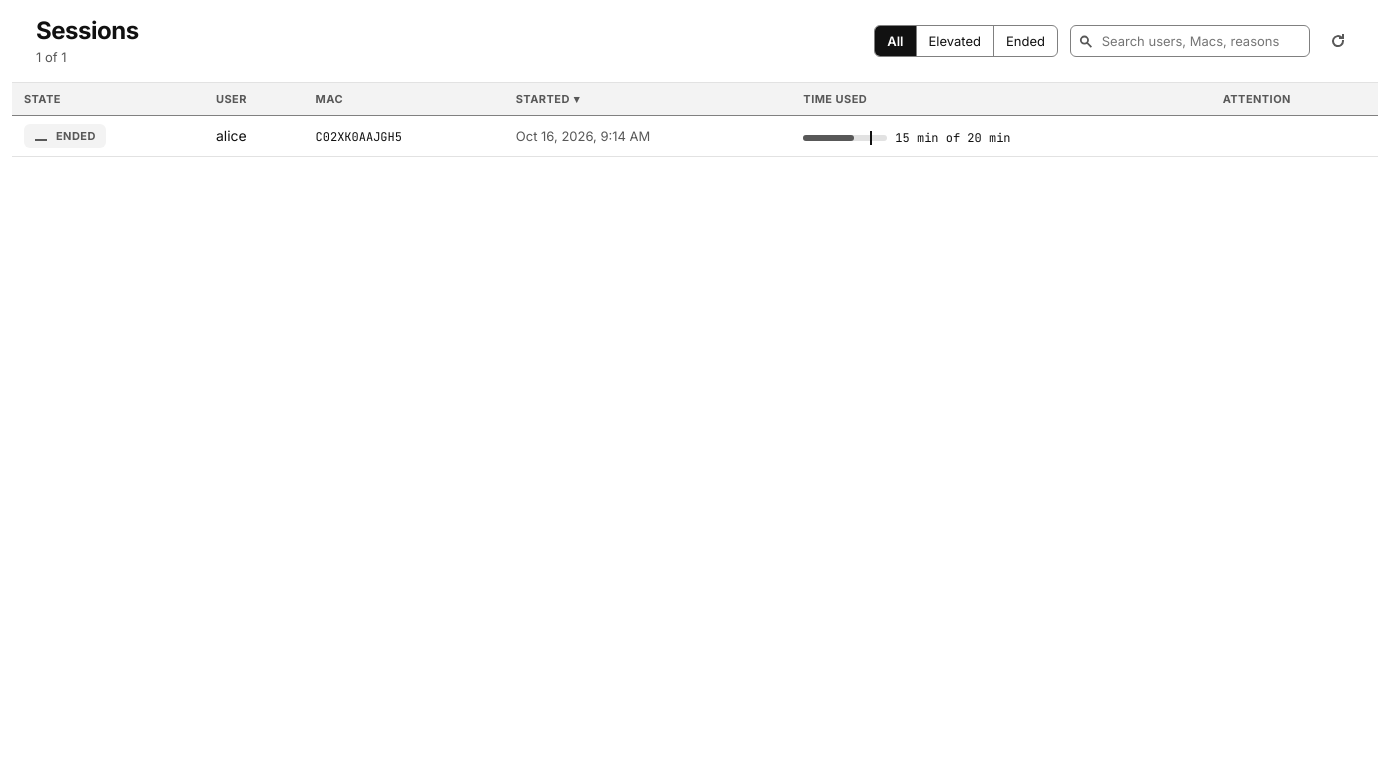
Test: Sessions › offers no revoke for a session that has ended
Click the text "alice". click: (231, 136)
box: [216,127,247,144]
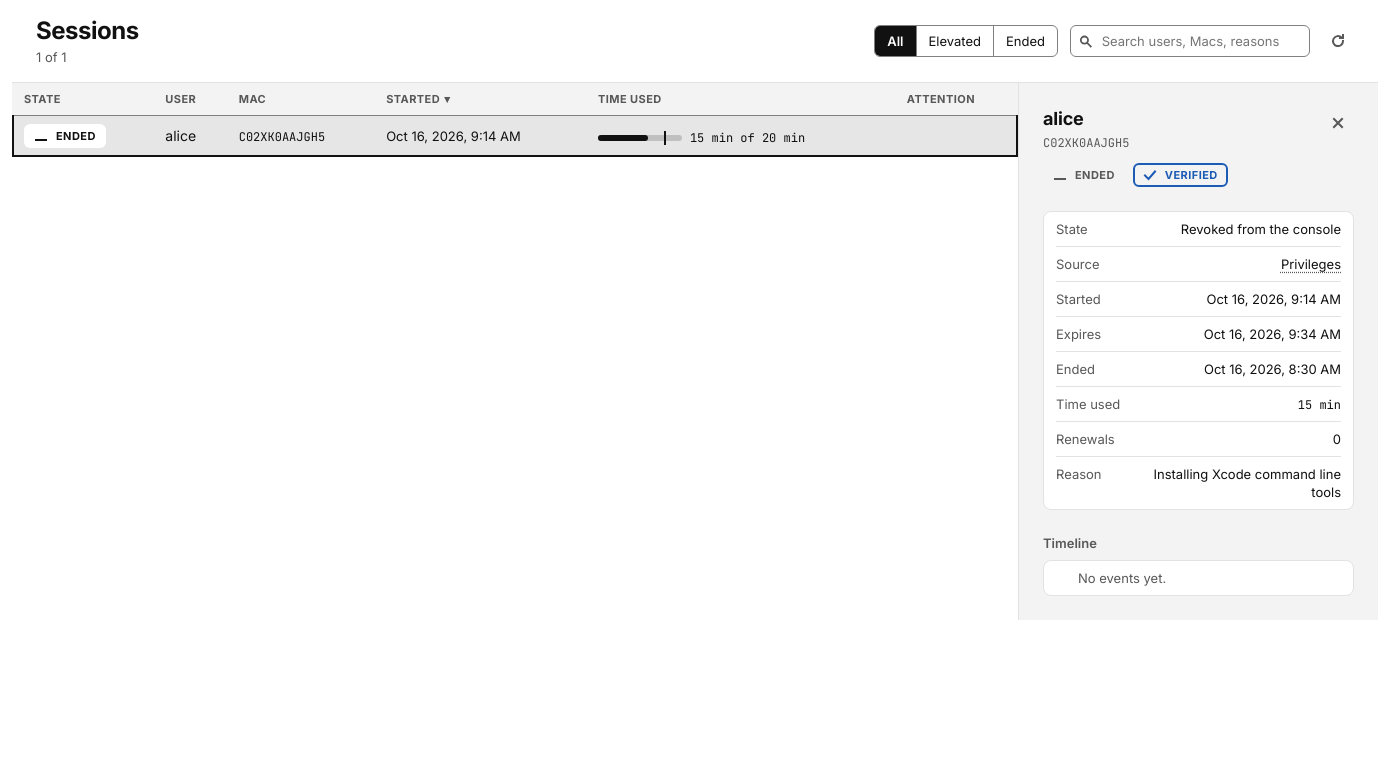
Now the text "Revoked from the console" is shown, box [1120,212,1341,247]
